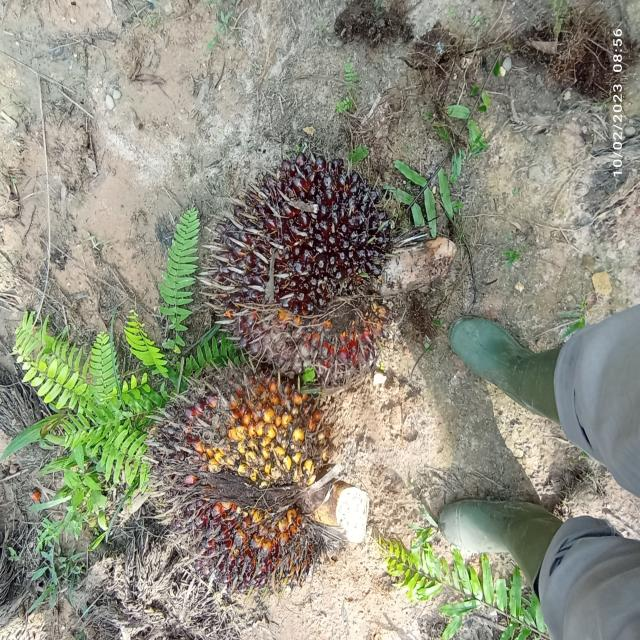fraksi 00: (188, 114, 423, 391)
fraksi 1: (115, 354, 387, 609)
